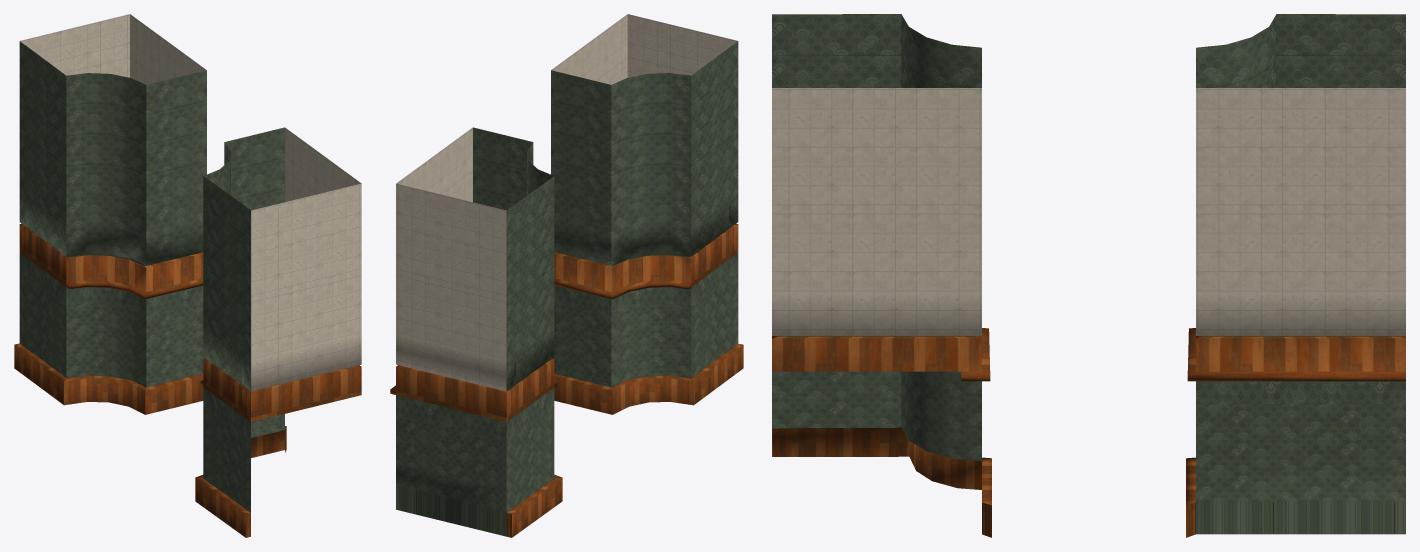
Rendered from BackOfDinningHall.fbx.
3 views of the same model, side by side, from view 1: azimuth 30°, elevation 25°; view 2: azimuth 150°, elevation 25°; view 3: azimuth 270°, elevation 25° (orthographic). The views are drawn at different scales.
Visible parts, largest first — view 1: Pilars.002; view 2: Pilars.002; view 3: Pilars.002.
Boxes of the visible parts, <box> form: Pilars.002: <box>14,14,361,537</box>; Pilars.002: <box>390,14,743,537</box>; Pilars.002: <box>772,14,1405,537</box>.
Size of the model in its own units: 2899 by 7407 by 9534.
